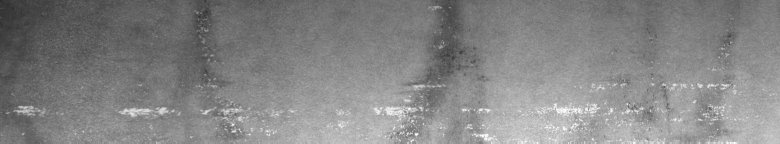hc: (6, 10, 282, 136)
